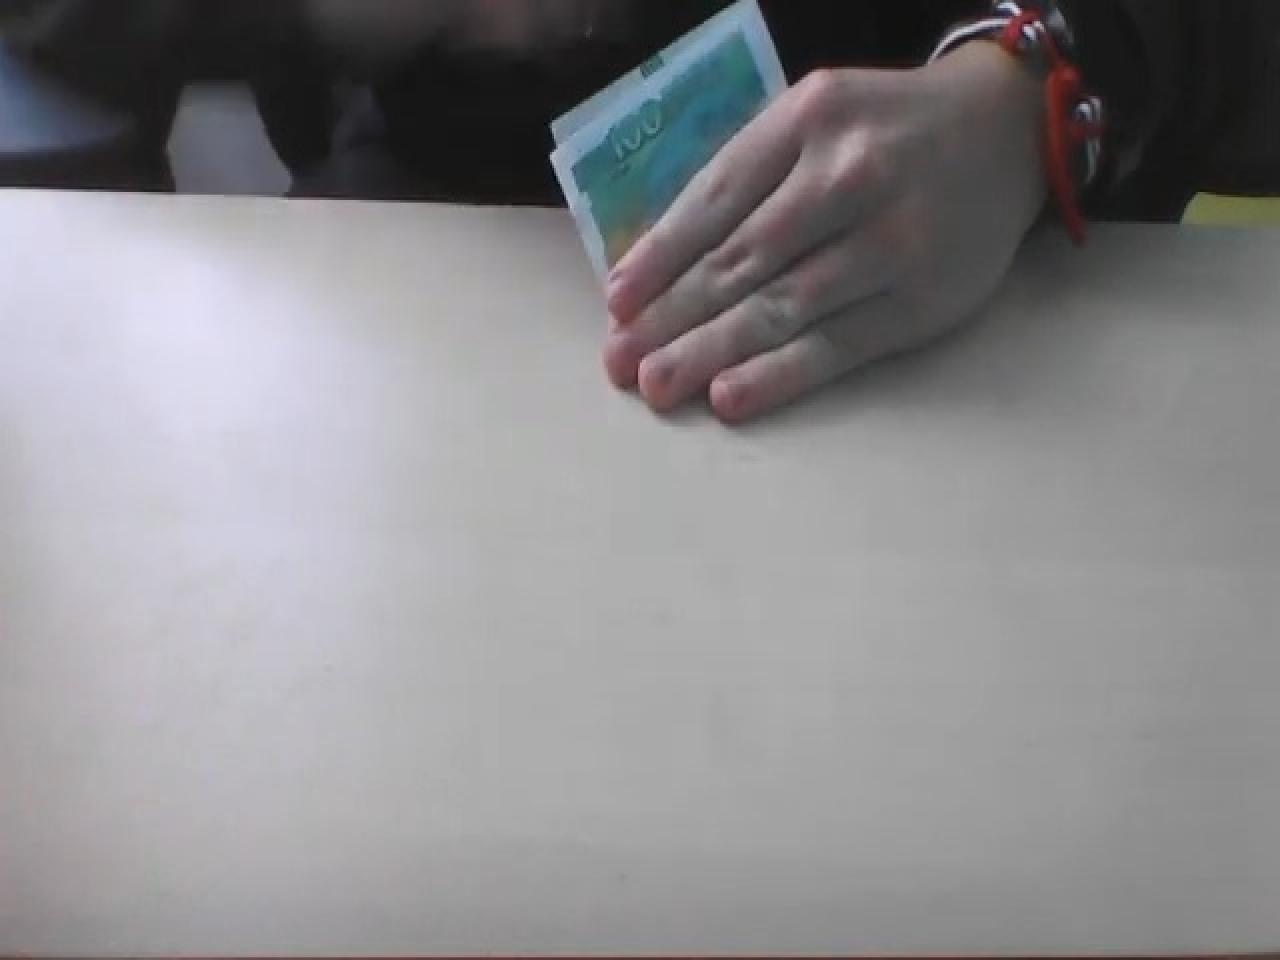100leva: (550, 0, 790, 280)
